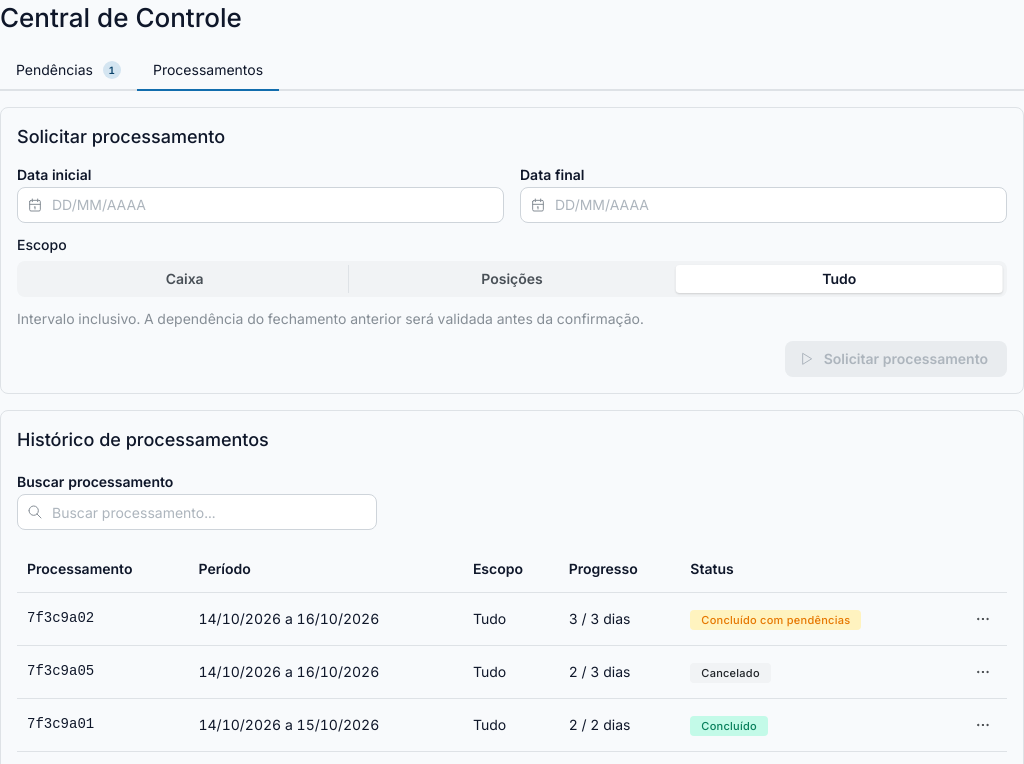
it: Processamentos: details (§11.1, §10.4) › OQ-23 says which dates a run cancelled midway kept, and offers a new request
The image size is (1024, 764).
What coordinates should you click on to do the following:
click the button named "Ações do processamento"
I would click on:
 (983, 672)
Its box is [969,658,997,686].
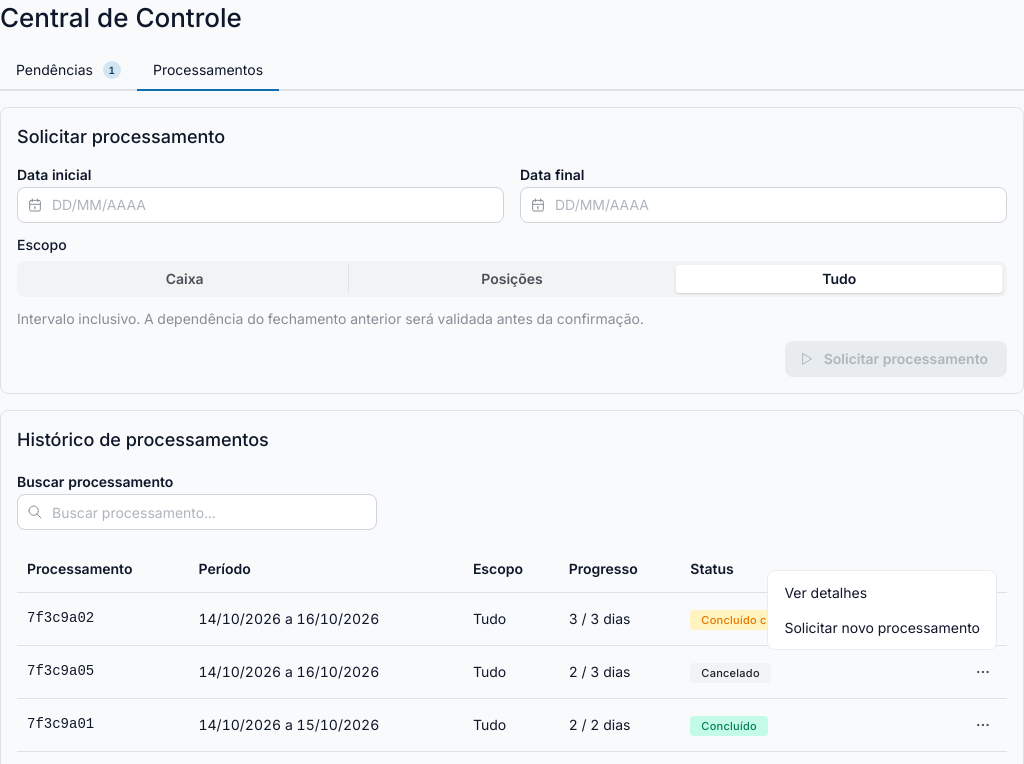
What coordinates should you click on to do the following:
click the menu item "Ver detalhes"
I would click on:
 (882, 592)
Its box is [772,575,992,610].
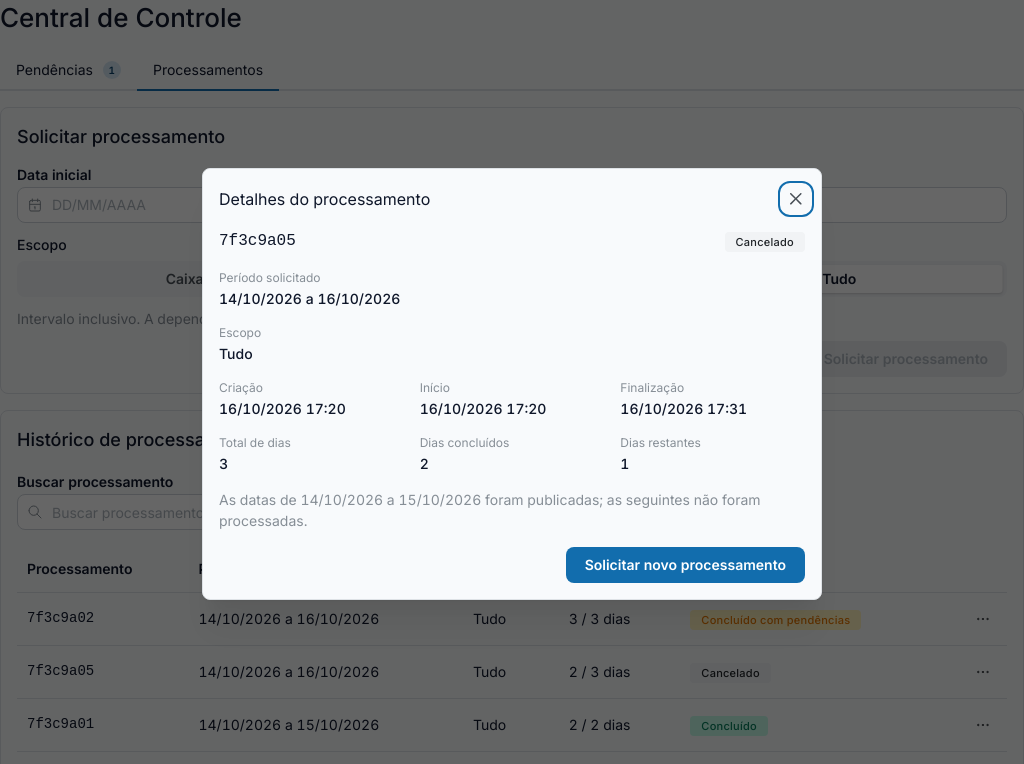
expect the message reads "Cancelado": met, box [736,234,794,248]
expect the text "16/10/2026 17:31" is shown: met, box [620,400,747,417]
expect the text "2" is shown: met, box [420,455,429,472]
